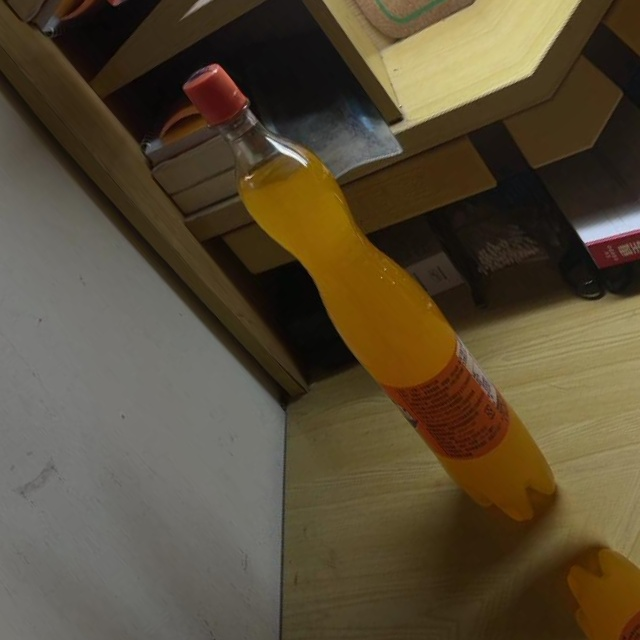Fanta: (144, 46, 584, 543)
